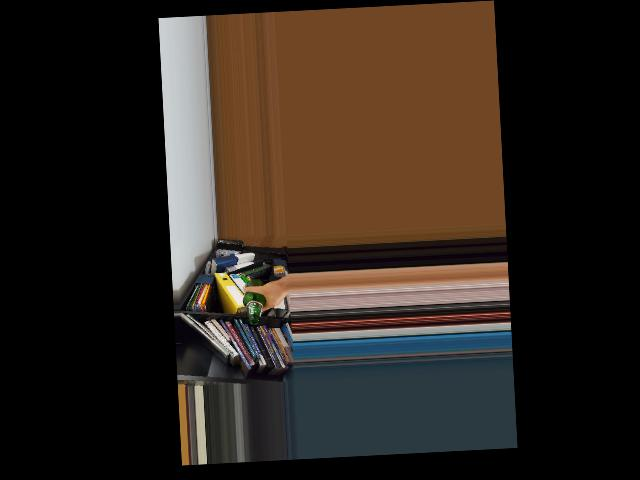beer: (242, 278, 266, 324)
